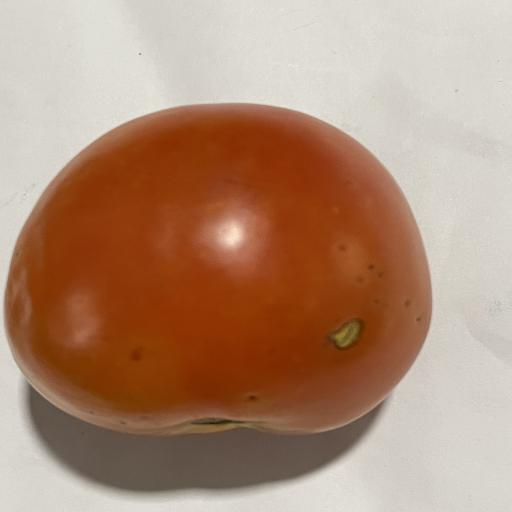unripe: (4, 104, 431, 435)
